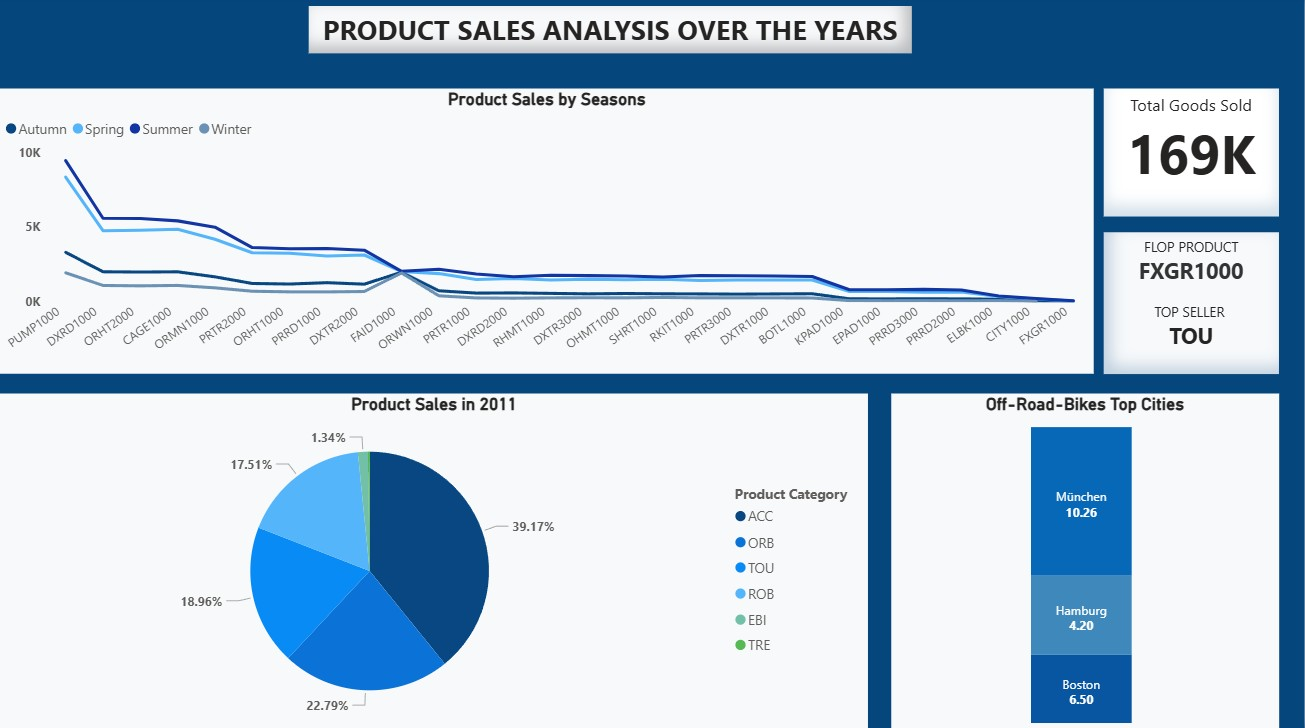

Layout of this report page (visuals, bound fields, positions):
{"tool":"powerbi","page":{"name":"Product Sales Analysis","canvas":[1280,720],"ordinal":1},"visuals":[{"type":"pieChart","title":"Product Sales in 2011","fields":{"Category":["Sales.Product Category"],"Y":["Divide(Sum(Sales.SalesQuantity), ScopedEval(Sum(Sales.SalesQuantity), []))"],"Series":["Sales.YEAR"]},"box":[0,390.6,852.1,329.6],"z":0},{"type":"lineChart","title":"Product Sales by Seasons","fields":{"Category":["Sales.Product"],"Y":["Sum(Sales.SalesQuantity)"],"Series":["Sales.Seasons"]},"box":[0,90.8,1073.5,279.9],"z":1000},{"type":"textbox","box":[1083.5,231.4,171.7,139.3],"z":2000},{"type":"columnChart","title":"Off-Road-Bikes Top Cities","fields":{"Category":["Sales.Product Category"],"Y":["Divide(Sum(Sales.SalesQuantity), ScopedEval(Sum(Sales.SalesQuantity), []))"],"Series":["Sales.City"]},"box":[874.5,390.6,380.7,329.6],"z":3000},{"type":"textbox","box":[303.4,9.5,591.8,46.3],"z":4000},{"type":"textbox","box":[1083.5,90.8,171.7,125.6],"z":5000}]}

Visuals, with their boxes in screenshot pixels (x1, y1, x2, y2), scaled from the page's 1280x720 canvas onto the 1305x728 screenshot:
"Product Sales in 2011" pieChart: region(0, 395, 869, 727)
"Product Sales by Seasons" lineChart: region(0, 92, 1094, 375)
textbox: region(1105, 234, 1280, 375)
"Off-Road-Bikes Top Cities" columnChart: region(892, 395, 1280, 727)
textbox: region(309, 10, 913, 56)
textbox: region(1105, 92, 1280, 219)
